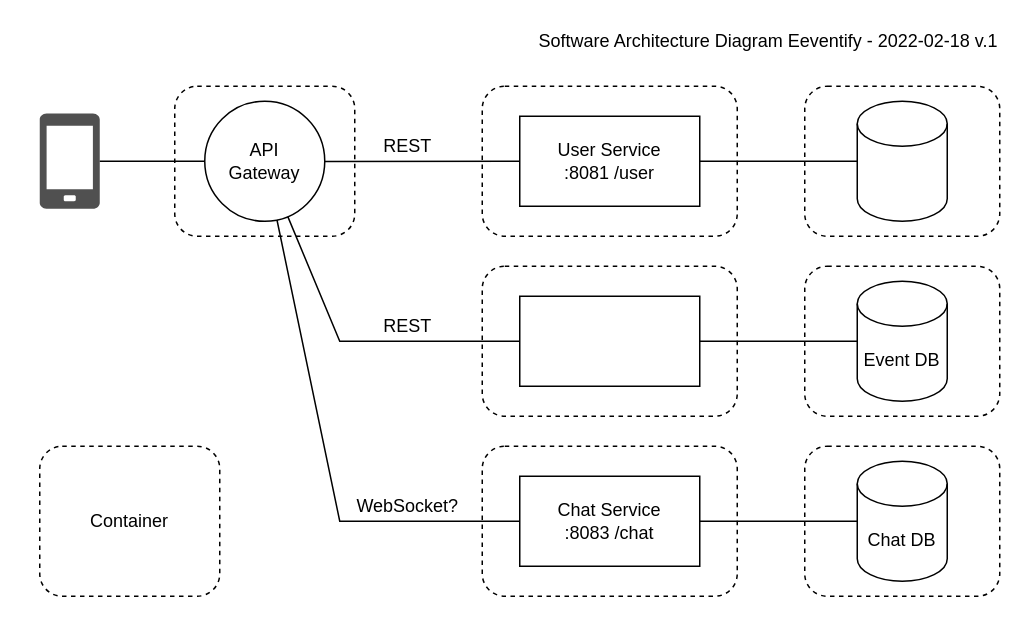
This 1026x623 diagram has some shape labels left out. Here are the shapes that lost their labels. From the top down, the centre of each, then its label:
At (x=69, y=160): "Mobile App".
At (x=901, y=160): "User DB".
At (x=609, y=340): "Event Service :8082 /event".
